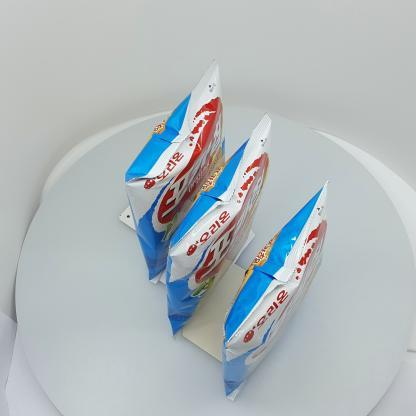Plastic Packaging: (218, 180, 328, 396), (112, 51, 224, 250)
